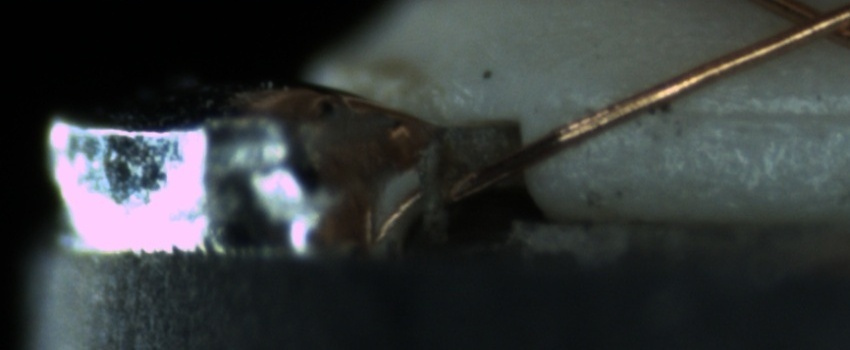CL: (759, 2, 850, 53)
DL: (637, 82, 850, 144)
